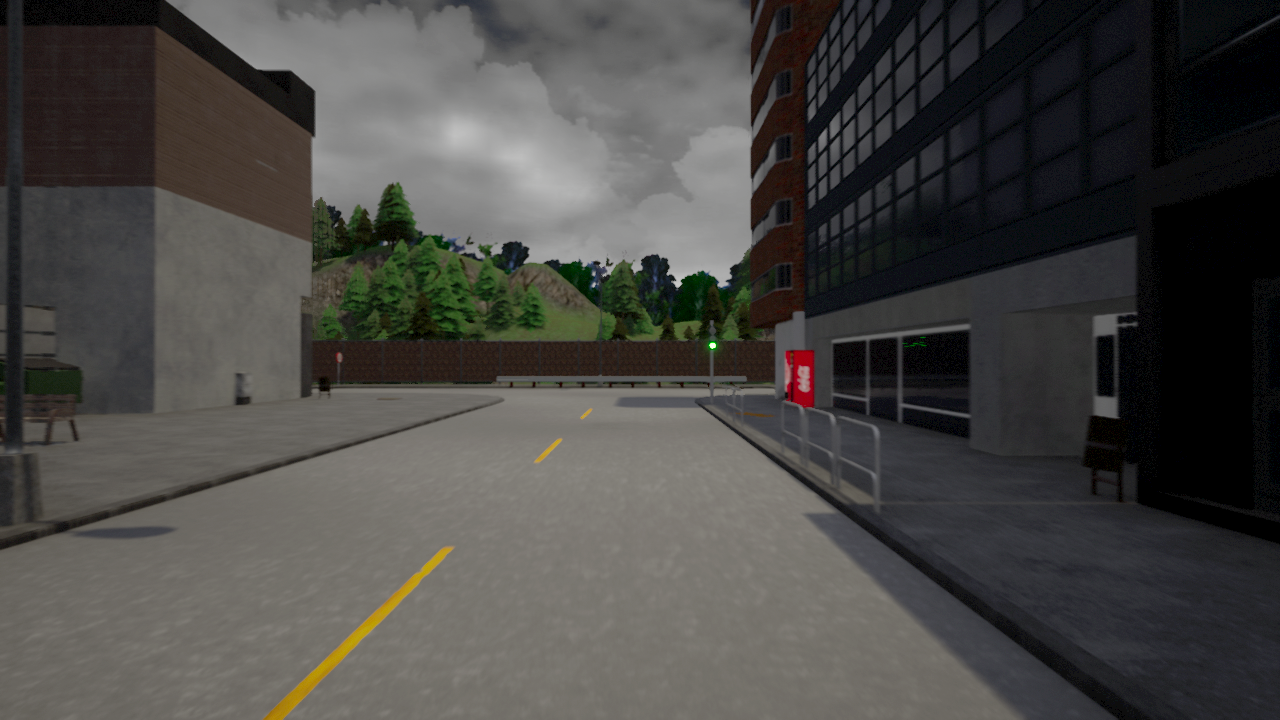green: (707, 324, 717, 349)
